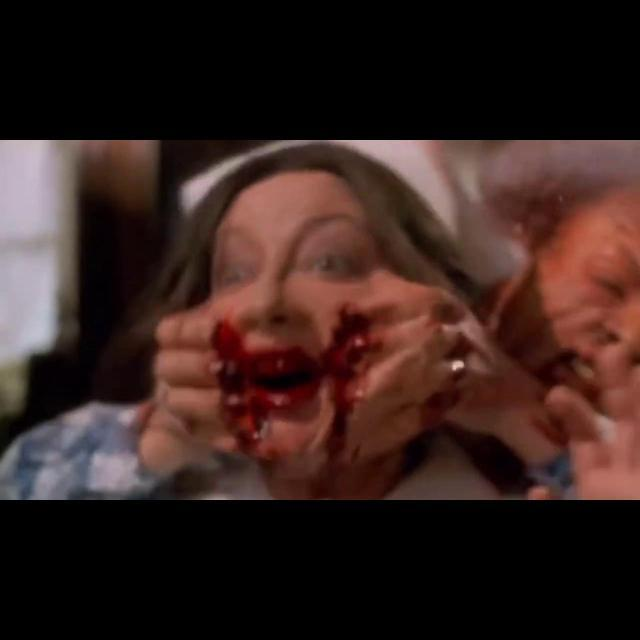blood: (210, 296, 394, 494), (396, 290, 486, 430), (525, 399, 574, 482), (500, 272, 541, 362), (134, 379, 173, 432)
